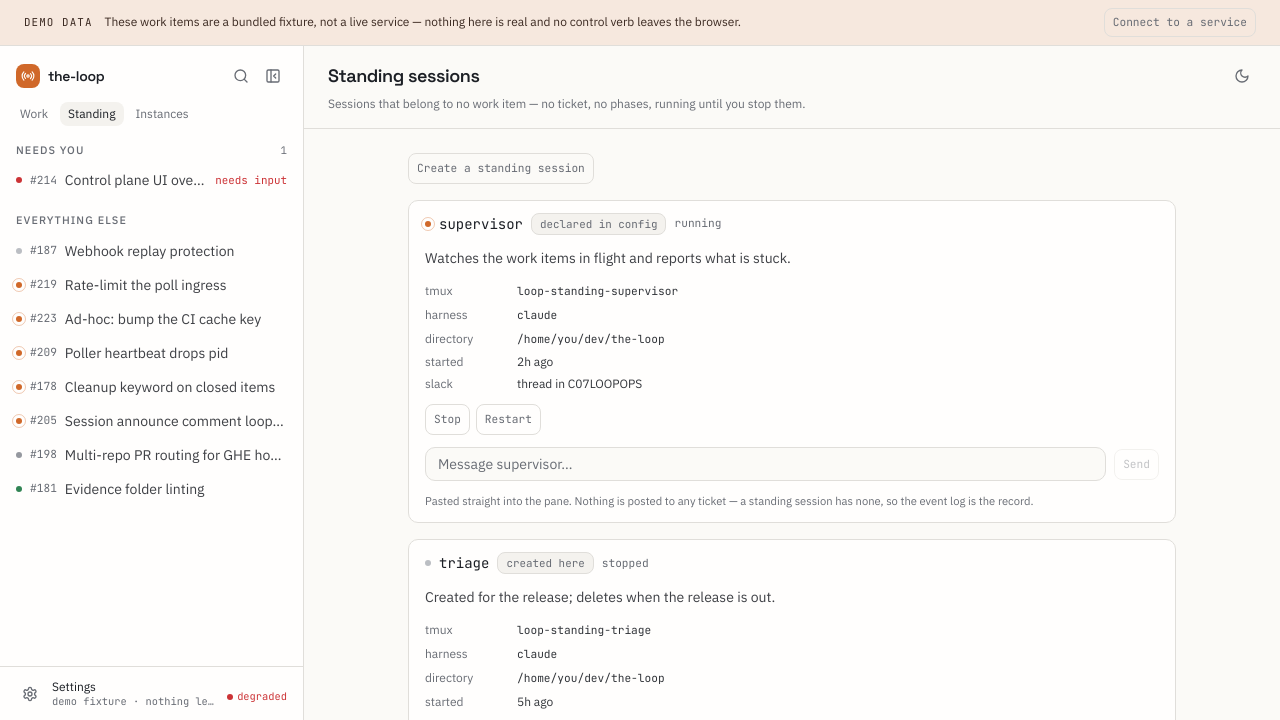
it: the Standing screen, on demo data › creates a session and shows it on the board
Click the button "Create a standing session" at (501, 168), box 408,153 -> 594,184
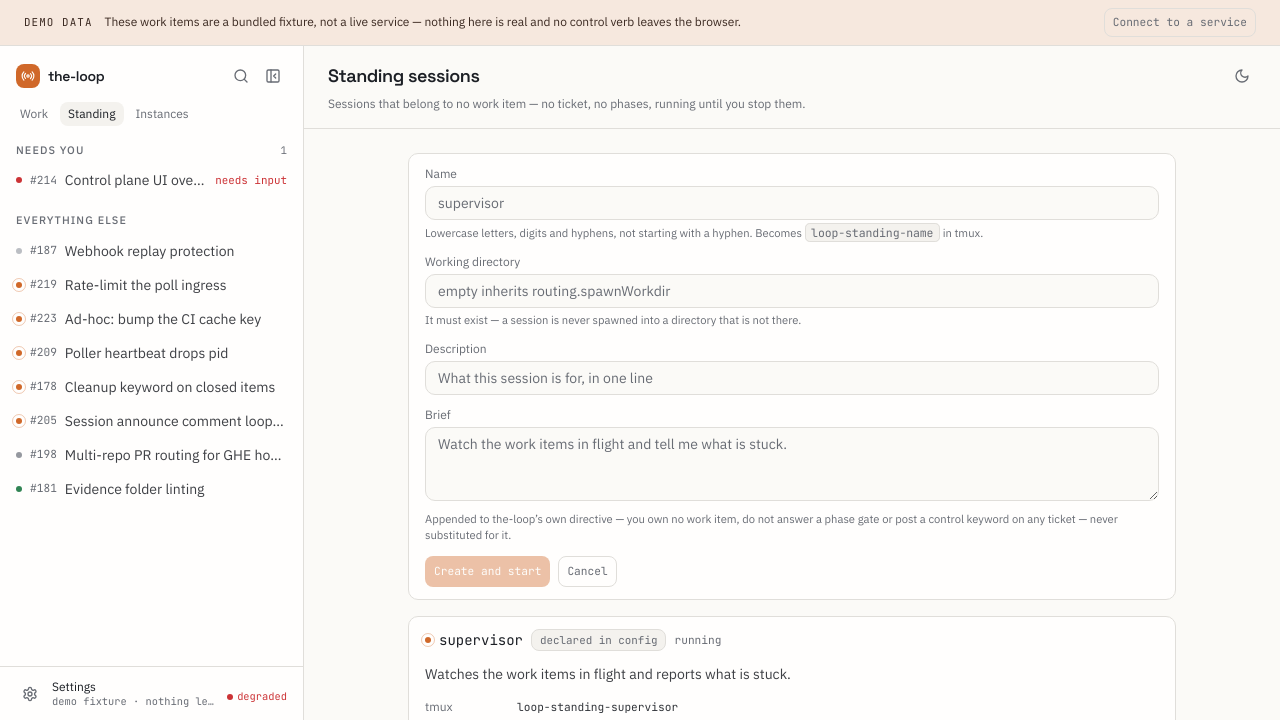
Type "release-watch" into the field labelled "Name" at (792, 203), box 425,186 -> 1159,220
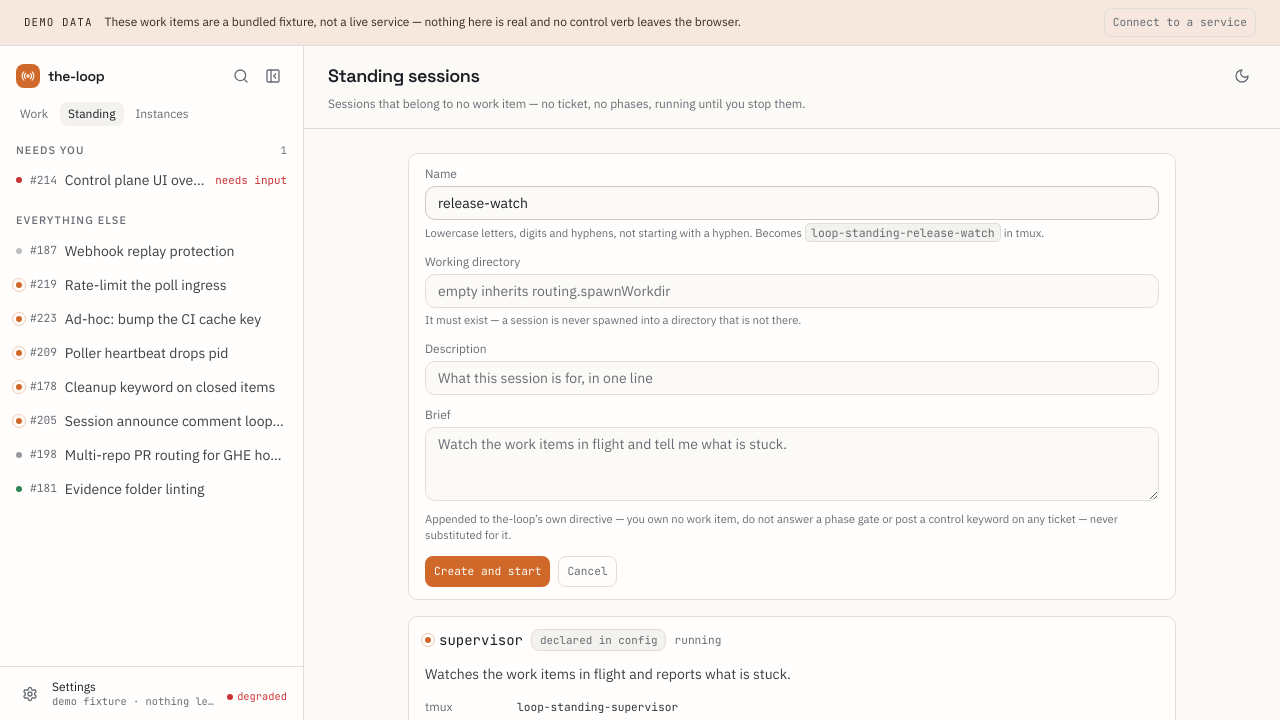
Type "Watch the release." into the text box labelled "Brief" at (792, 464), box 425,426 -> 1159,500
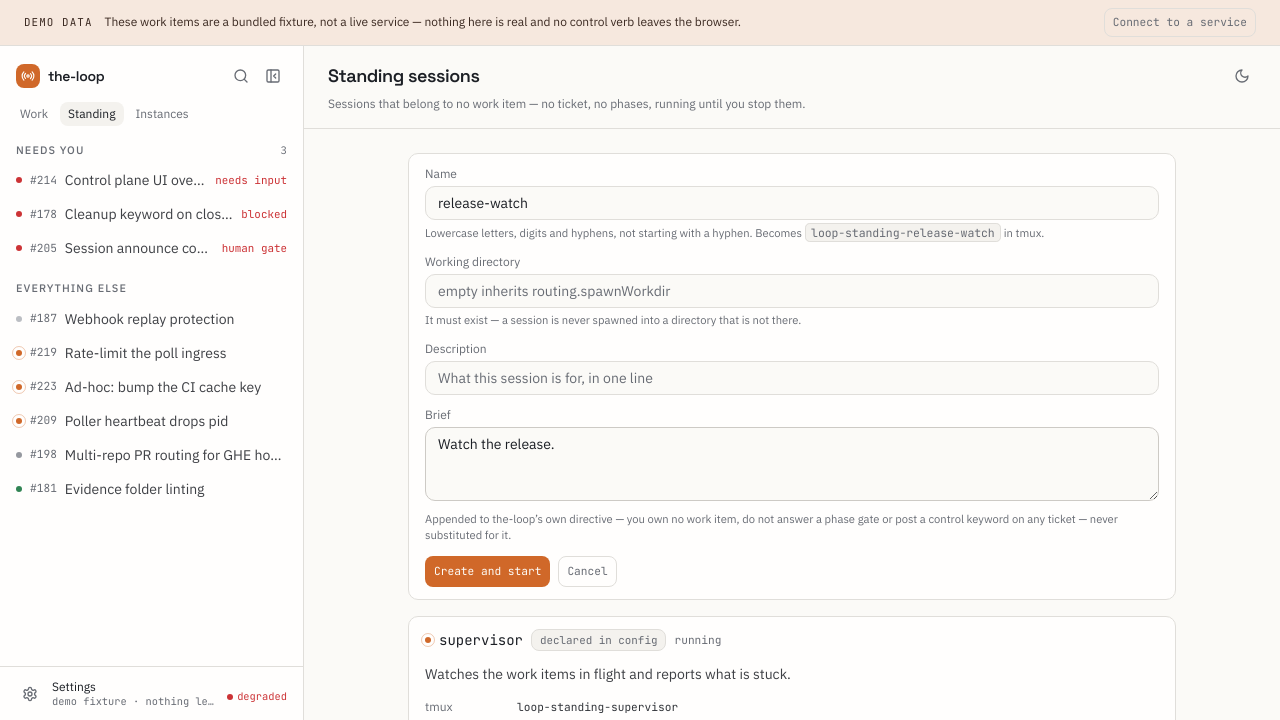
Click the button "Create and start" at (488, 572), box 425,556 -> 550,587
(page scrolled)
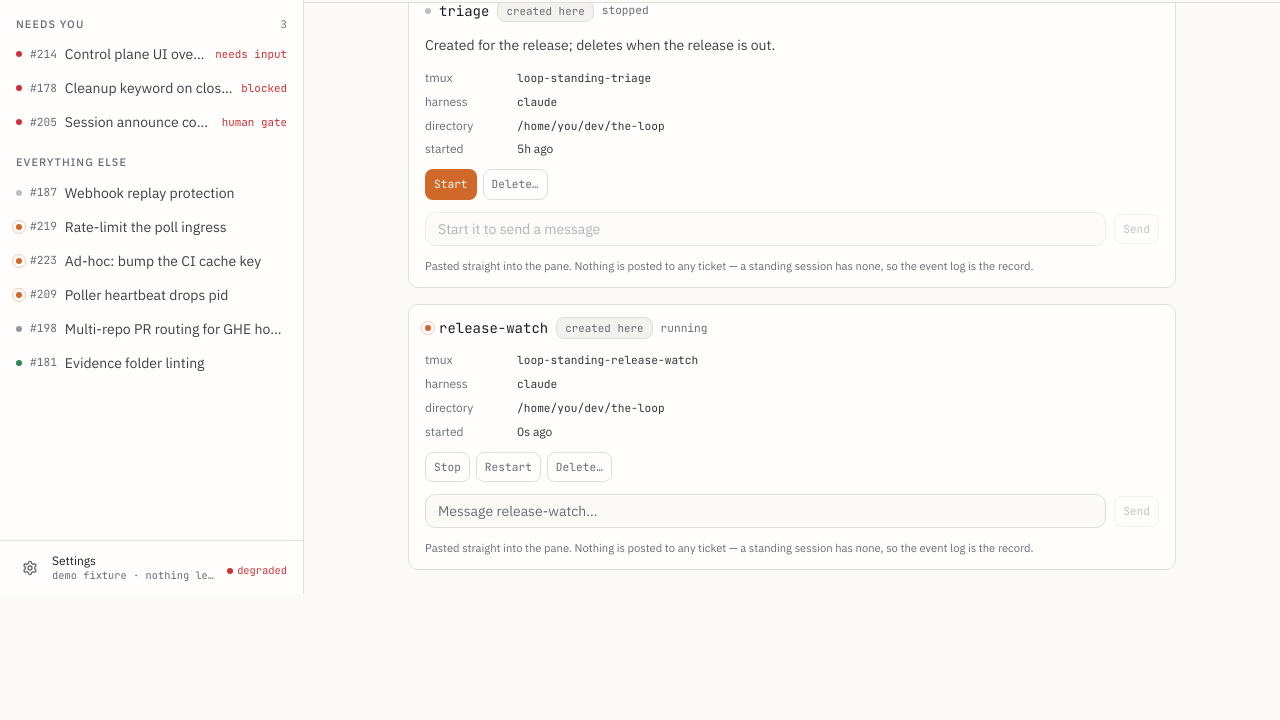
Expected: the text "loop-standing-release-watch" is shown, 517,353 -> 698,367
Expected: the text "created here" next to "running" is shown, 565,321 -> 644,335
